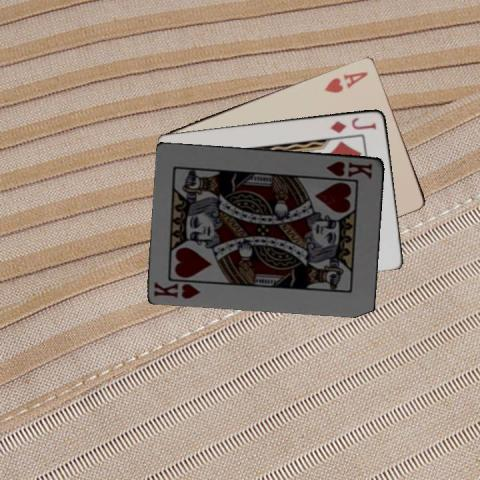Ah: (322, 68, 370, 94)
Jd: (327, 114, 378, 135)
Kh: (323, 158, 374, 180), (151, 279, 203, 300)
